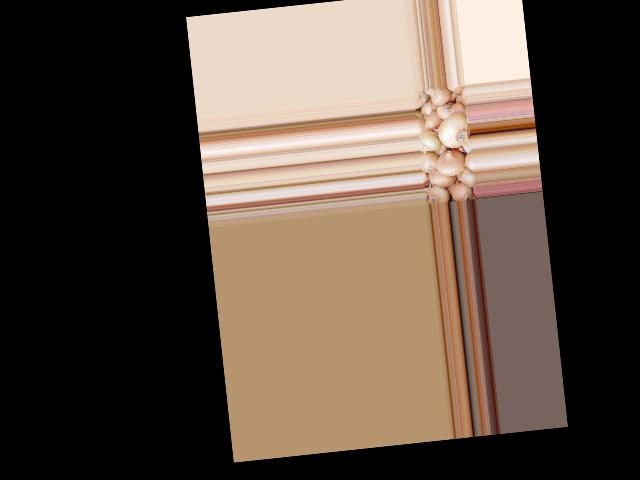onion: (428, 185, 449, 205)
